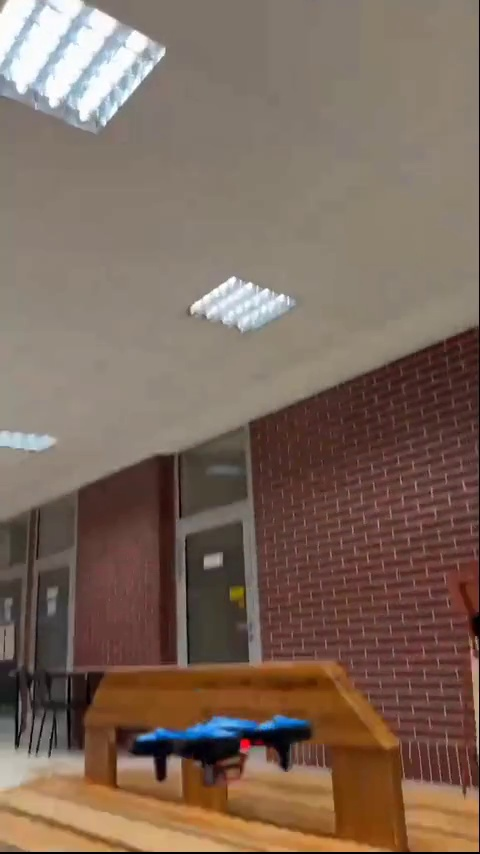drone: (132, 712, 316, 793)
